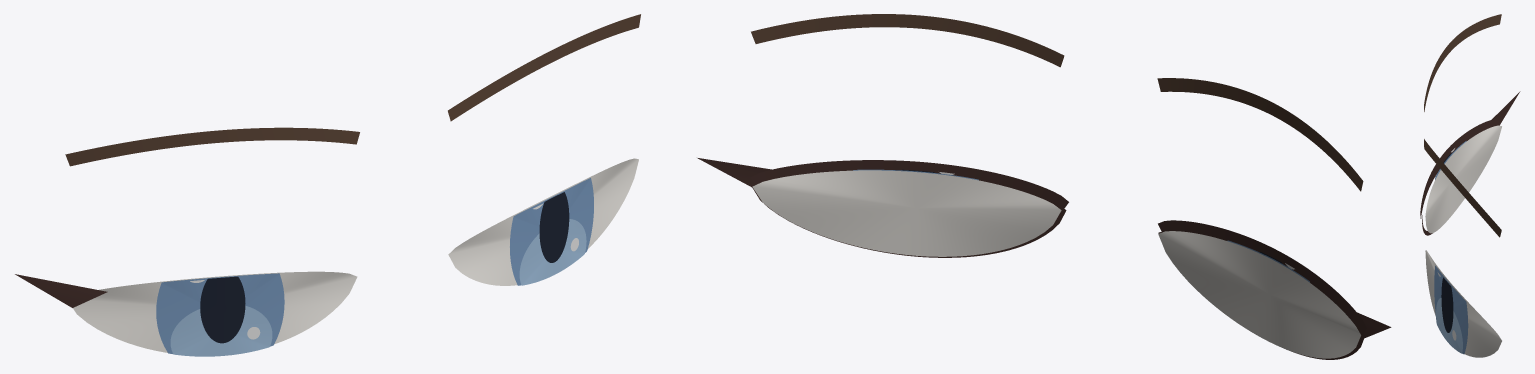
3 renders of one model, left to right at view 1: azimuth 30°, elevation 25°; view 2: azimuth 150°, elevation 25°; view 3: azimuth 270°, elevation 25°, orthographic. The views are drawn at different scales.
Parts seen in each view (by area): view 1: Eye_White_-1, Eye_White_1, Eye_Iris_-1, Eyebrow_-1, Eye_Iris_Light_-1, Eye_Iris_1, Eye_Pupil_-1, Eyebrow_1, Eye_Iris_Light_1, Eye_Pupil_1, Eye_LashWing_-1; view 2: Eye_White_1, Eye_White_-1, Eyebrow_1, Eye_UpperLid_1, Eyebrow_-1, Eye_UpperLid_-1, Eye_LashWing_1, Eye_LowerLid_1; view 3: Eye_White_-1, Eye_White_1, Eye_Iris_1, Eyebrow_-1, Eyebrow_1, Eye_UpperLid_-1, Eye_Iris_Light_1, Eye_Pupil_1, Eye_LashWing_-1.
Part boxes in pixels (left/top/right/bottom): Eye_White_-1: left=73, top=271, right=357, bottom=352; Eye_White_1: left=448, top=158, right=638, bottom=285; Eye_Iris_-1: left=156, top=273, right=284, bottom=353; Eyebrow_-1: left=65, top=127, right=359, bottom=166; Eye_Iris_Light_-1: left=170, top=305, right=272, bottom=356; Eye_Iris_1: left=510, top=178, right=593, bottom=285; Eye_Pupil_-1: left=200, top=276, right=245, bottom=343; Eyebrow_1: left=448, top=14, right=640, bottom=121; Eye_Iris_Light_1: left=519, top=219, right=586, bottom=285; Eye_Pupil_1: left=539, top=192, right=569, bottom=262; Eye_LashWing_-1: left=15, top=274, right=107, bottom=307; Eye_White_1: left=752, top=170, right=1061, bottom=256; Eye_White_-1: left=1158, top=231, right=1360, bottom=358; Eyebrow_1: left=751, top=14, right=1064, bottom=67; Eye_UpperLid_1: left=750, top=160, right=1068, bottom=208; Eyebrow_-1: left=1157, top=78, right=1363, bottom=191; Eye_UpperLid_-1: left=1158, top=220, right=1366, bottom=334; Eye_LashWing_1: left=697, top=158, right=775, bottom=187; Eye_LowerLid_1: left=751, top=184, right=1066, bottom=257; Eye_White_-1: left=1425, top=125, right=1501, bottom=233; Eye_White_1: left=1425, top=250, right=1501, bottom=357; Eye_Iris_1: left=1434, top=265, right=1468, bottom=354; Eyebrow_-1: left=1424, top=14, right=1501, bottom=111; Eyebrow_1: left=1424, top=139, right=1501, bottom=237; Eye_UpperLid_-1: left=1420, top=119, right=1499, bottom=218; Eye_Iris_Light_1: left=1436, top=298, right=1462, bottom=353; Eye_Pupil_1: left=1441, top=277, right=1453, bottom=332; Eye_LashWing_-1: left=1490, top=91, right=1520, bottom=125.
Size of the model in its own units: 0.418 by 0.1394 by 0.0723.
